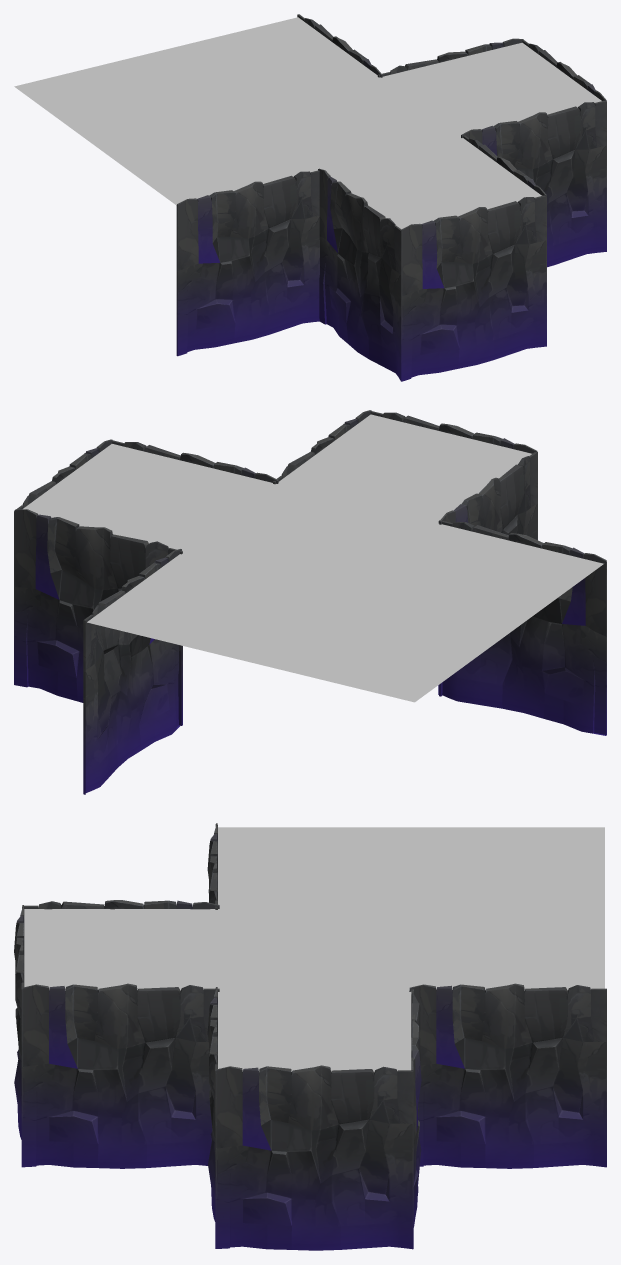
Rendered from Floor_Fish.FBX.
3 renders of one model, top to bottom at view 1: azimuth 30°, elevation 25°; view 2: azimuth 150°, elevation 25°; view 3: azimuth 270°, elevation 25°, orthographic. The views are drawn at different scales.
Parts seen in each view (by area): view 1: Floor_Fish, floor; view 2: floor, Floor_Fish; view 3: Floor_Fish, floor.
Boxes of the visible parts, bbox=[...] form: Floor_Fish: bbox=[176, 14, 606, 381]; floor: bbox=[14, 17, 601, 229]; floor: bbox=[23, 414, 603, 702]; Floor_Fish: bbox=[14, 410, 606, 794]; Floor_Fish: bbox=[14, 823, 606, 1250]; floor: bbox=[24, 827, 604, 1072].
Size of the model in its own units: 1206 by 411 by 1206.
